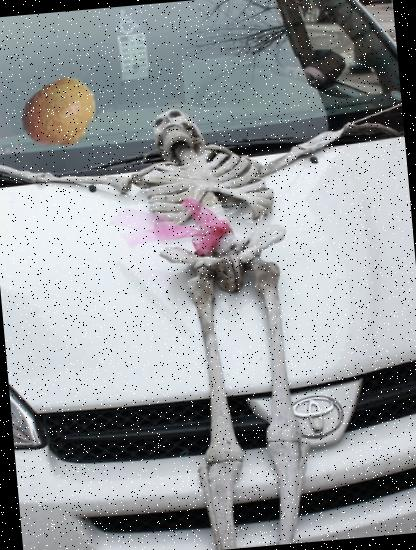Mandarine: (17, 72, 103, 158)
